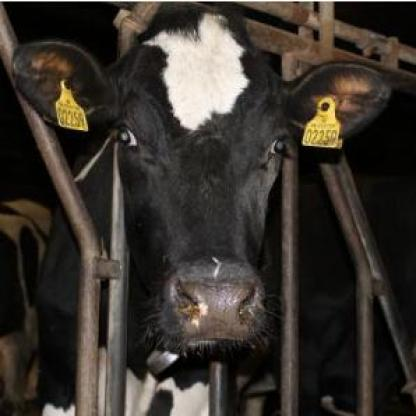cow: (10, 11, 392, 356)
